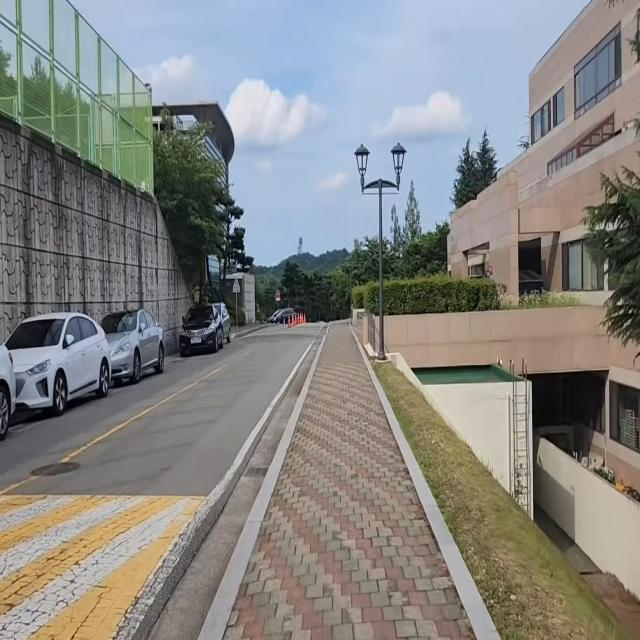obstacle: (0, 310, 111, 432), (103, 304, 169, 390), (178, 293, 237, 357)
road: (0, 322, 328, 640)
sidewalk: (198, 319, 503, 640)
